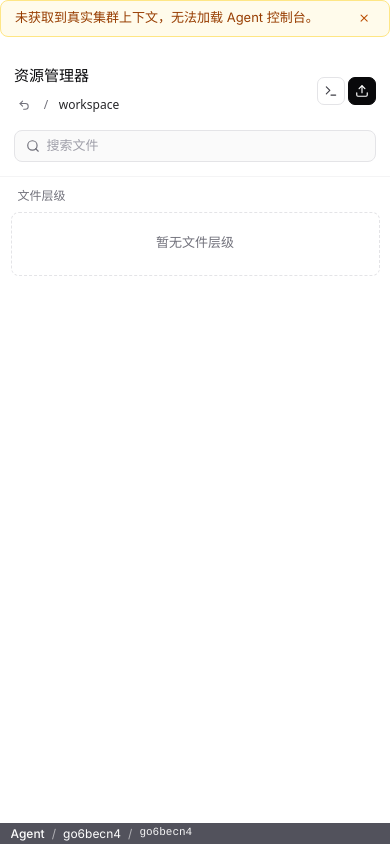
Scenario: AgentConsoleWindowPage helpers › shows only the explorer first on mobile and keeps upload in the explorer toolbar
expect the text "未获取到真实集群上下文，无法加载 Agent 控制台。" is shown: met, box [15,9,344,28]
expect the button named "添加终端" is shown: met, box [316,76,344,104]
Click the button named "上传文件" at (362, 90), box [348,76,376,104]
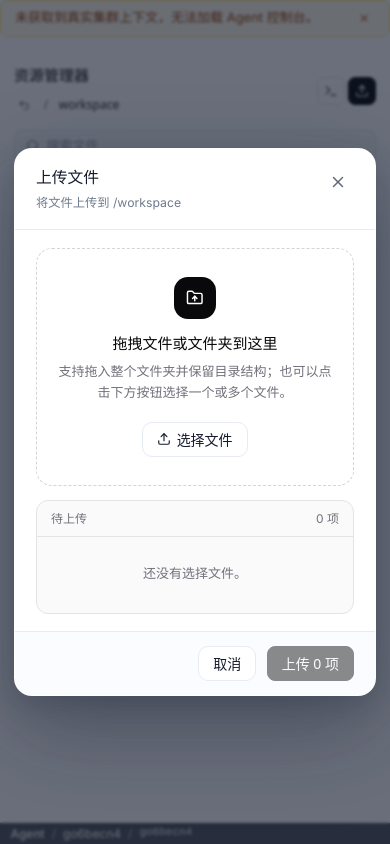
expect the heading "上传文件" is shown: met, box [36,168,99,187]
expect the text "拖拽文件或文件夹到这里" is shown: met, box [112,333,278,355]
expect the button "选择文件" is shown: met, box [142,422,248,457]
